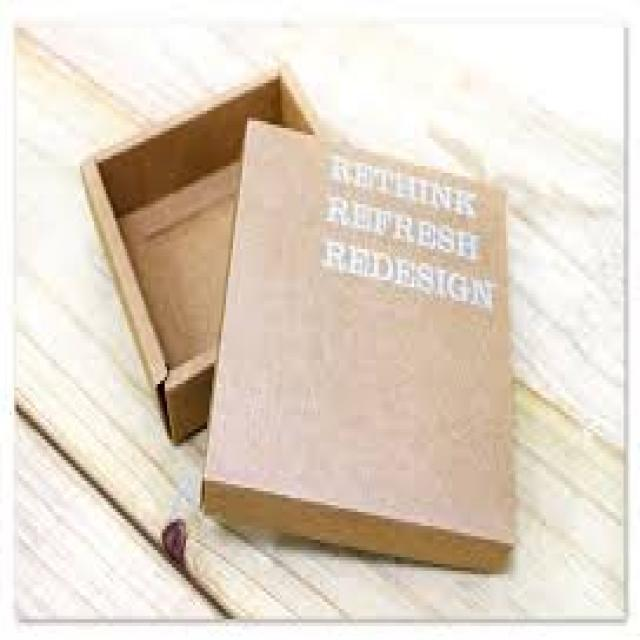Cardboard: (196, 120, 517, 579)
